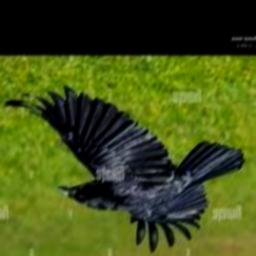Crow: (3, 85, 244, 252)
